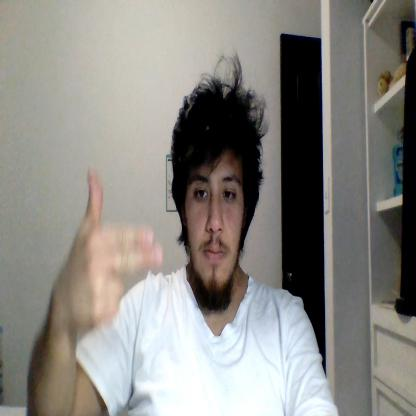H: (60, 172, 162, 329)
